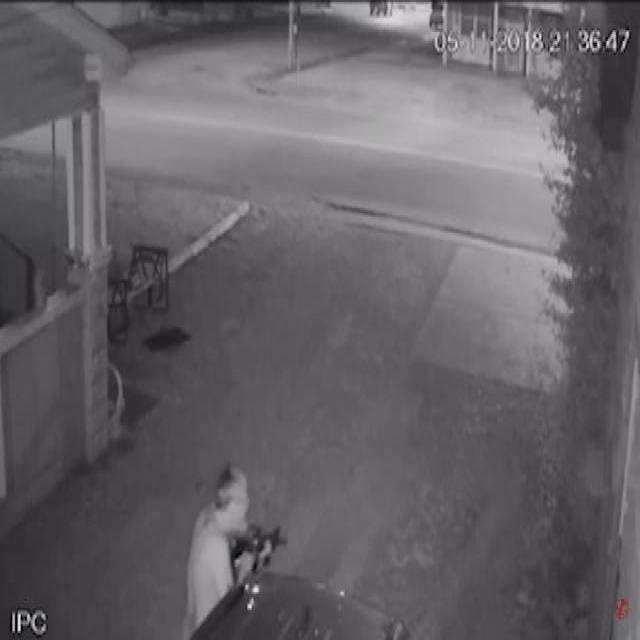pistol: (232, 523, 290, 573)
